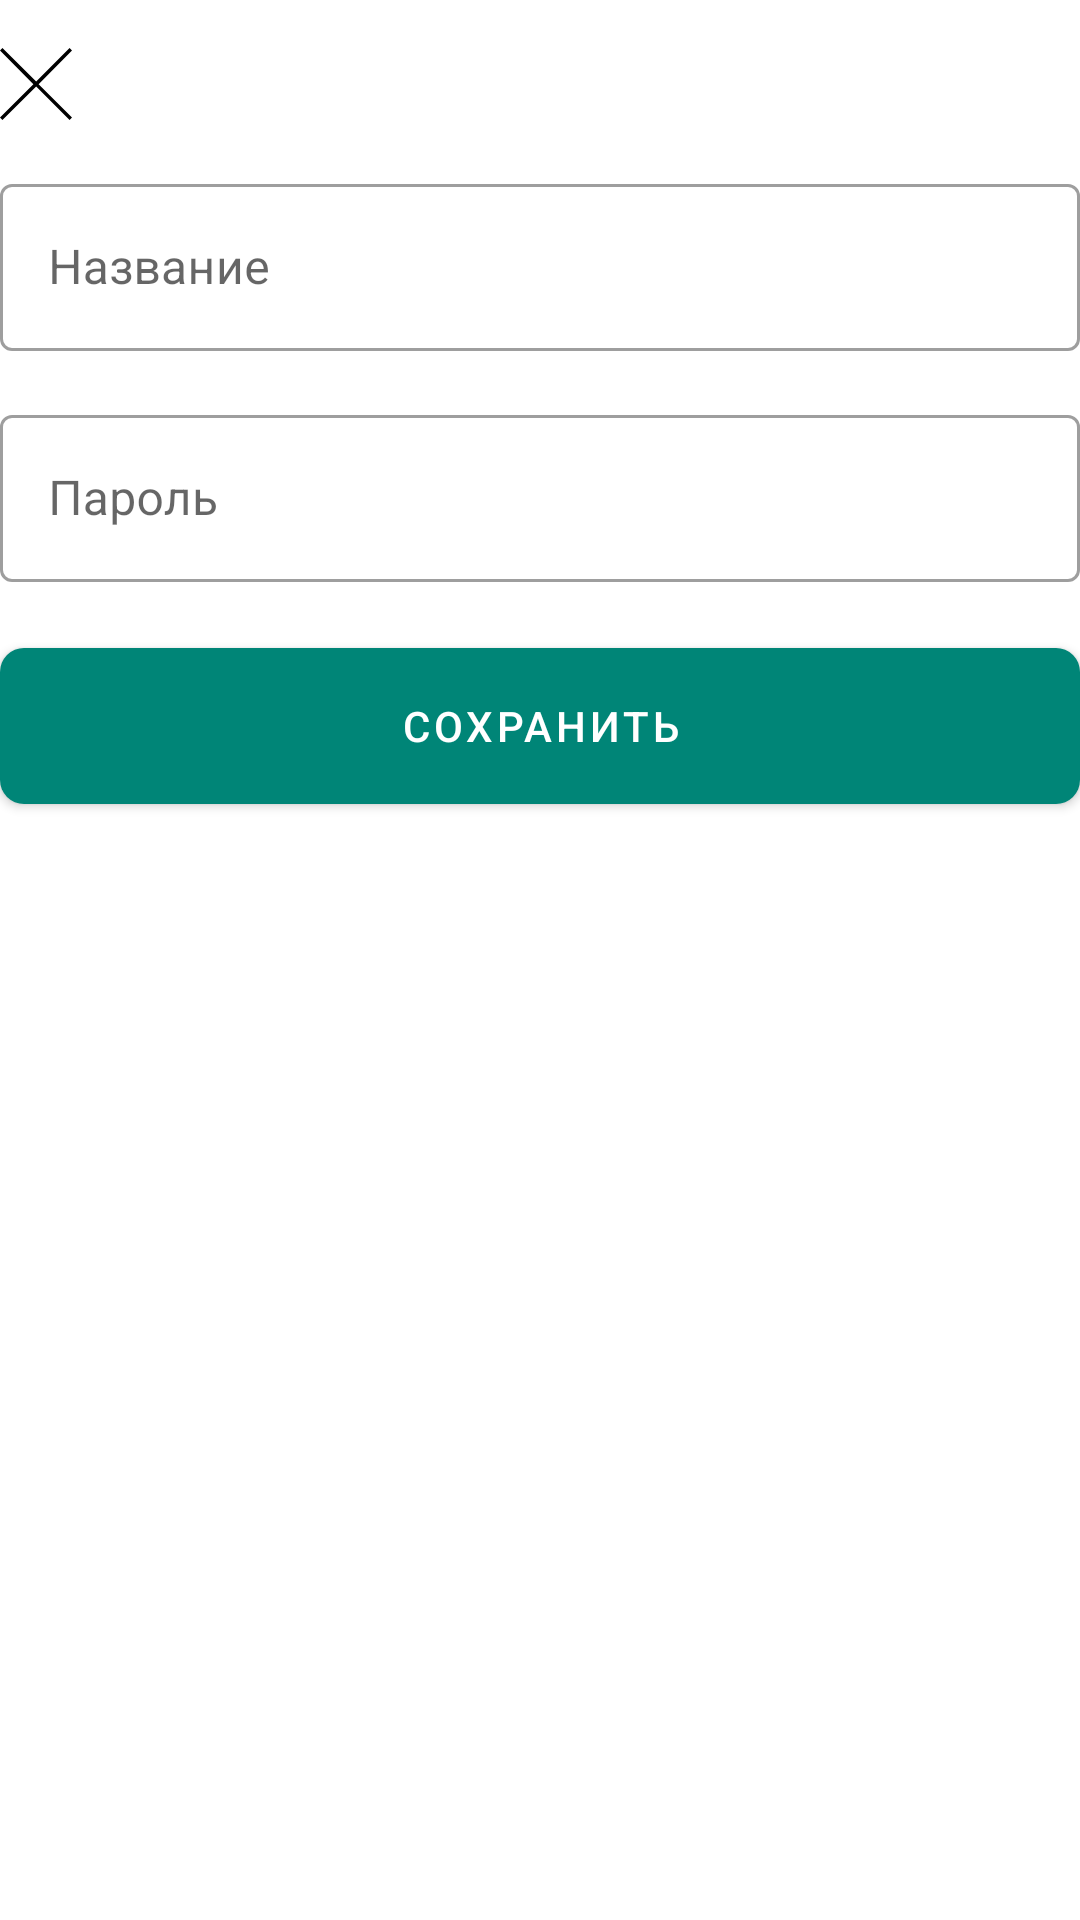

Named icons in this screenshot (1080*1920) and their bounding boxes, region(x1, y1, x2, y2):
close: region(0, 48, 72, 120)
